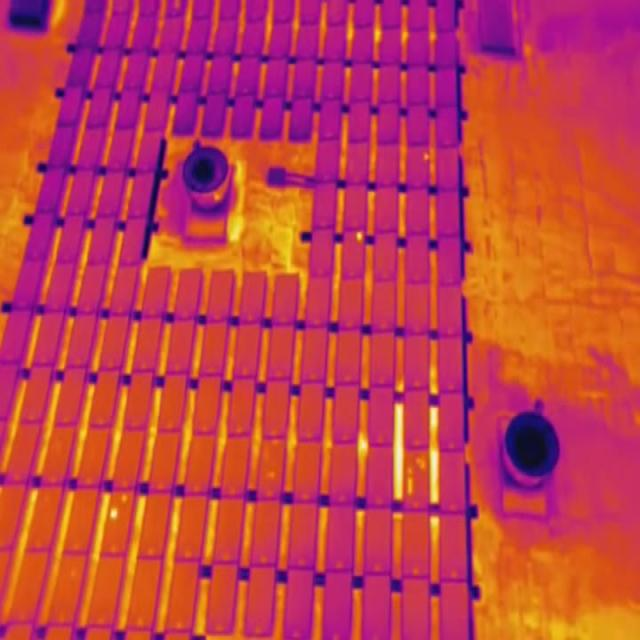Orange-Spots: (407, 466, 414, 496), (416, 457, 424, 470), (110, 508, 118, 520), (121, 494, 128, 502), (356, 232, 363, 240), (424, 153, 428, 160)
